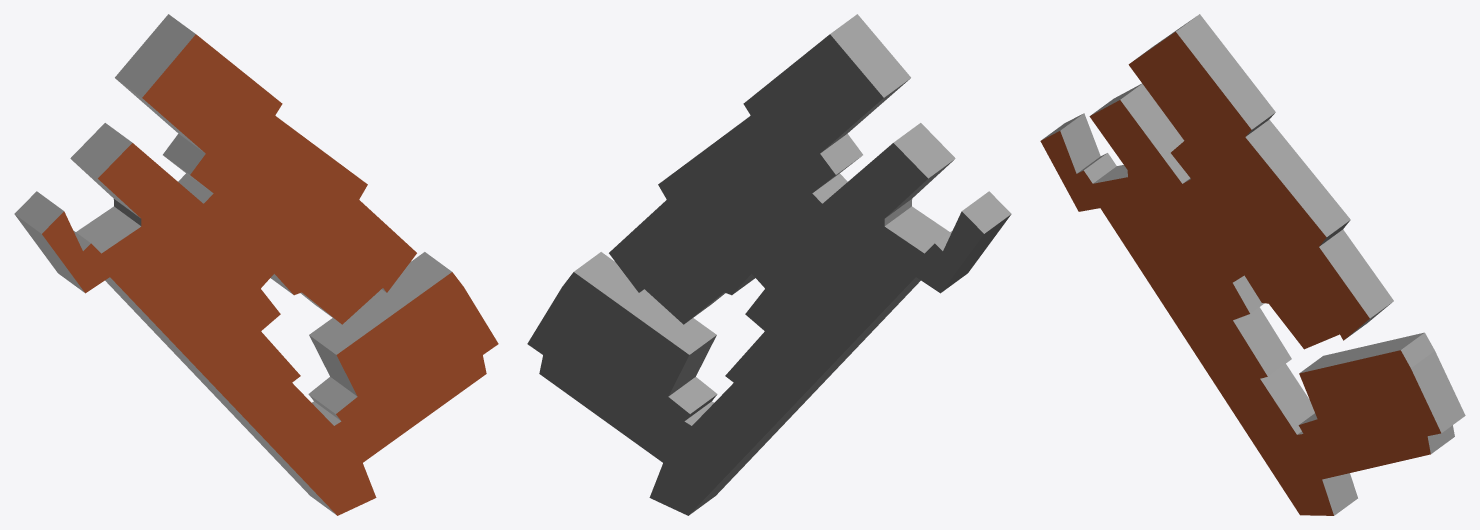
Rendered from construction_3115_assumed_A_Casa_h6m.obj.
3 views of the same model, side by side, from view 1: azimuth 30°, elevation 25°; view 2: azimuth 150°, elevation 25°; view 3: azimuth 330°, elevation 25° (orthographic). The views are drawn at different scales.
Visible parts, largest first — view 1: construction_3115_assumed_A_Casa; view 2: construction_3115_assumed_A_Casa; view 3: construction_3115_assumed_A_Casa.
Boxes of the visible parts, x1,y1,x2,y2 form: construction_3115_assumed_A_Casa: (14, 14, 498, 515); construction_3115_assumed_A_Casa: (527, 14, 1011, 515); construction_3115_assumed_A_Casa: (1040, 14, 1465, 515).
Size of the model in its own units: 57.59 by 62.18 by 6.
